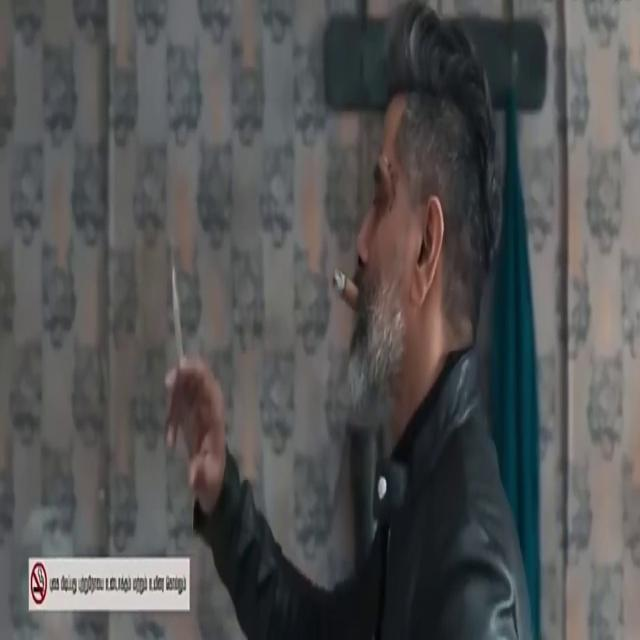smoking: (358, 272, 392, 311)
